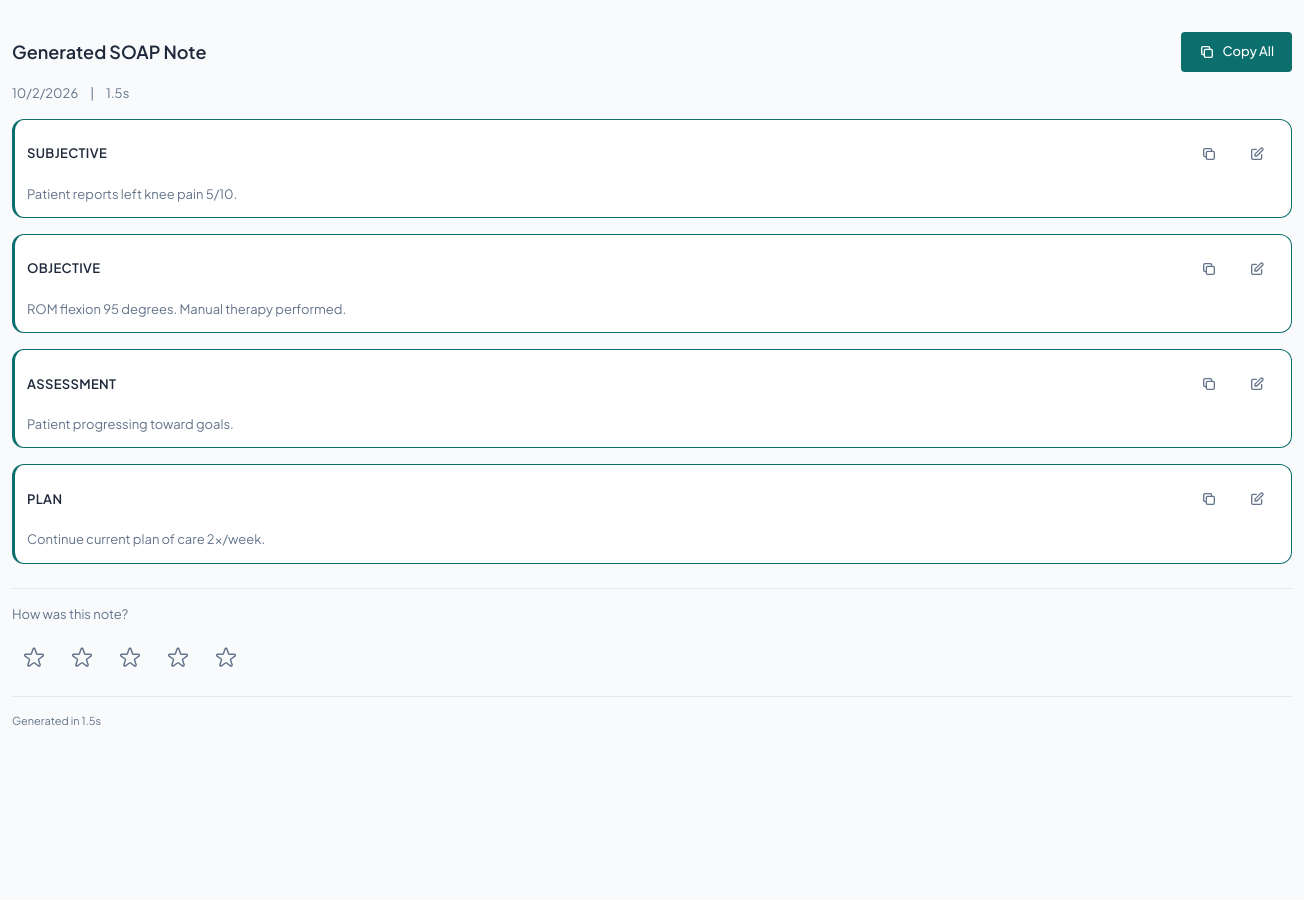
Test: GeneratedNote › save updates section content with edited text
Click the button named "Edit Subjective section".
click(1257, 154)  # box [1235,132,1279,176]
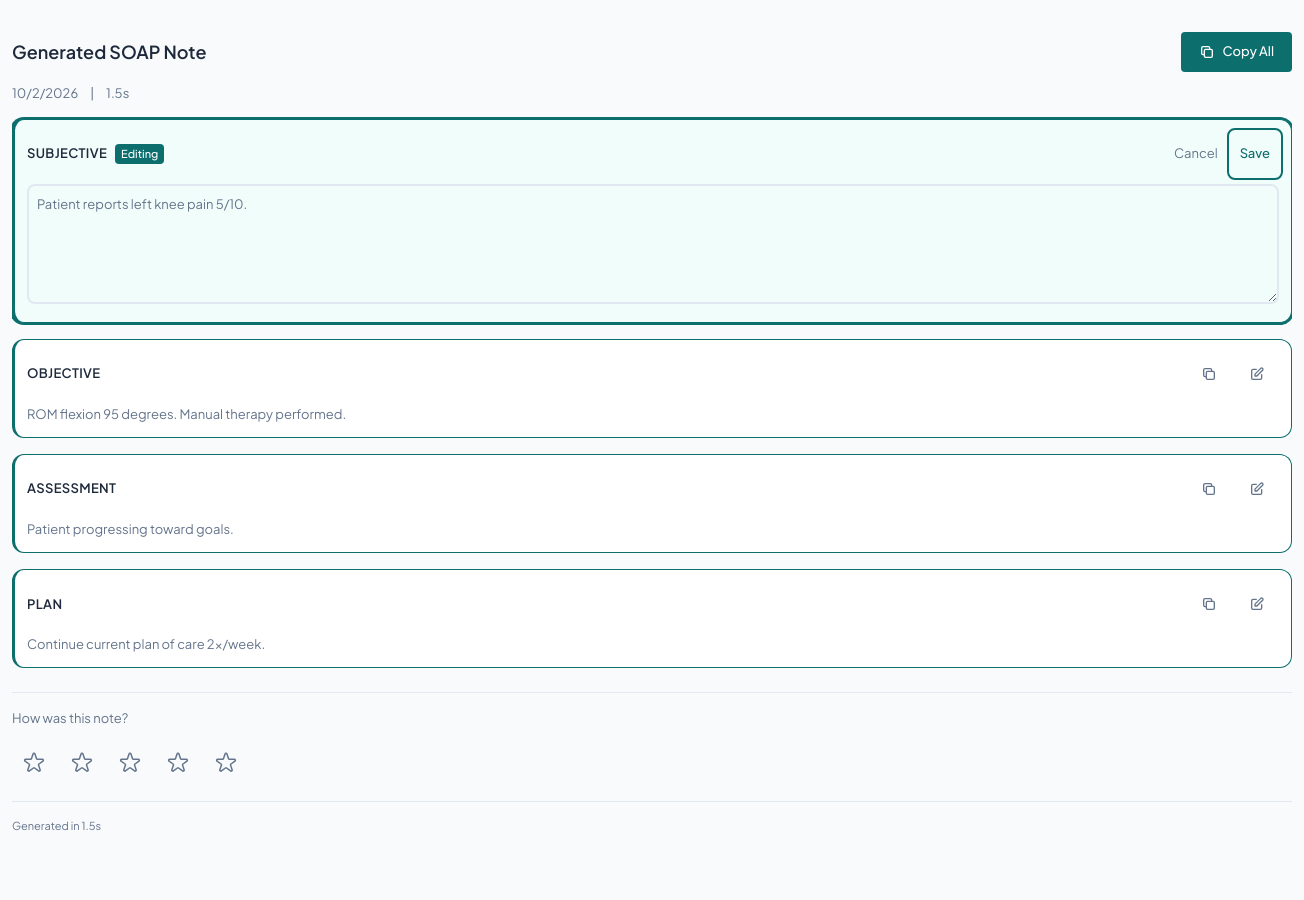
Replace the text in the text box named "Edit Subjective section content" with "Updated subjective content." at point(653, 244), box [27,184,1279,304]
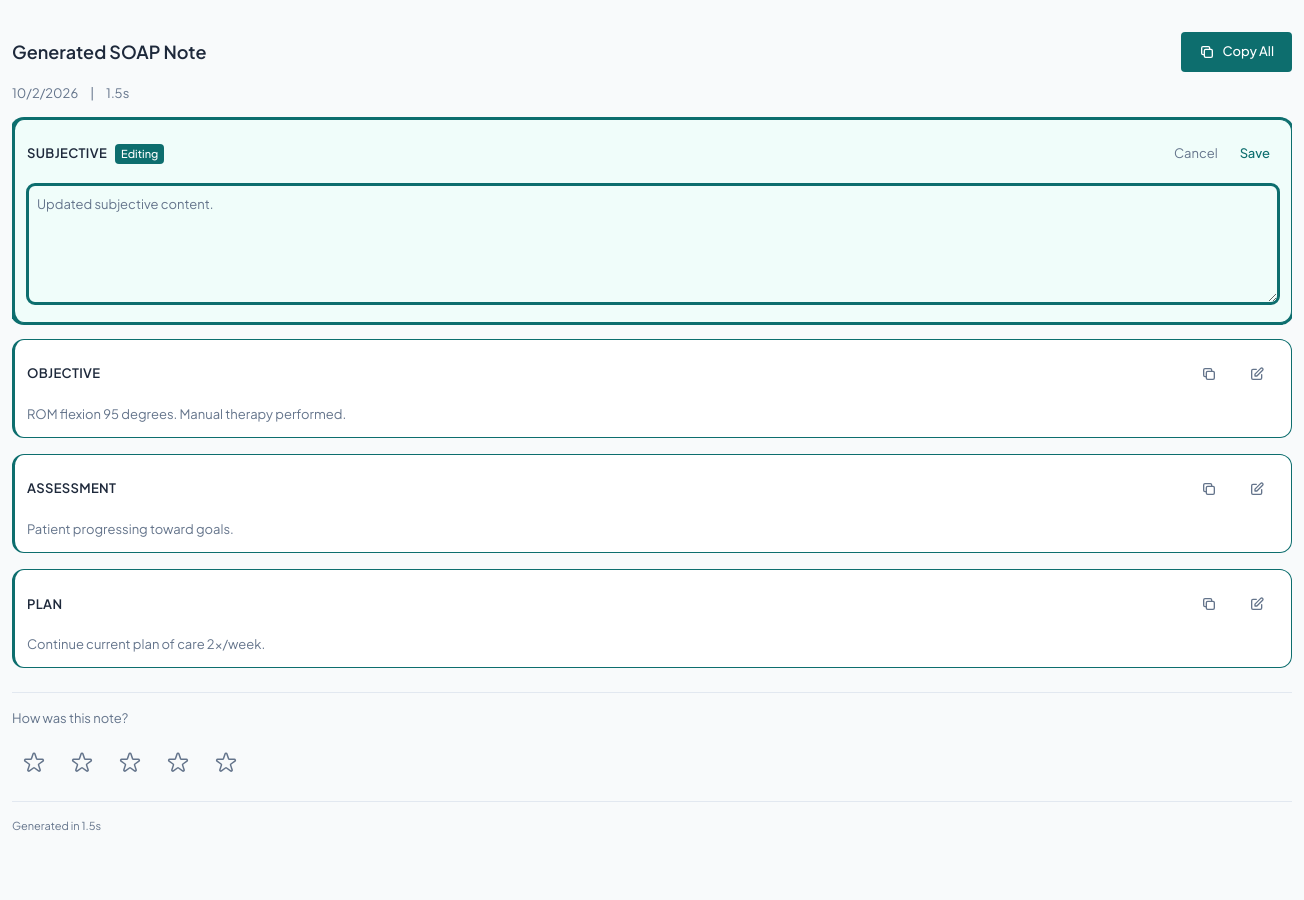
Click the button with aria-label "Save Subjective section".
click(1255, 154)  # box [1231,132,1279,176]
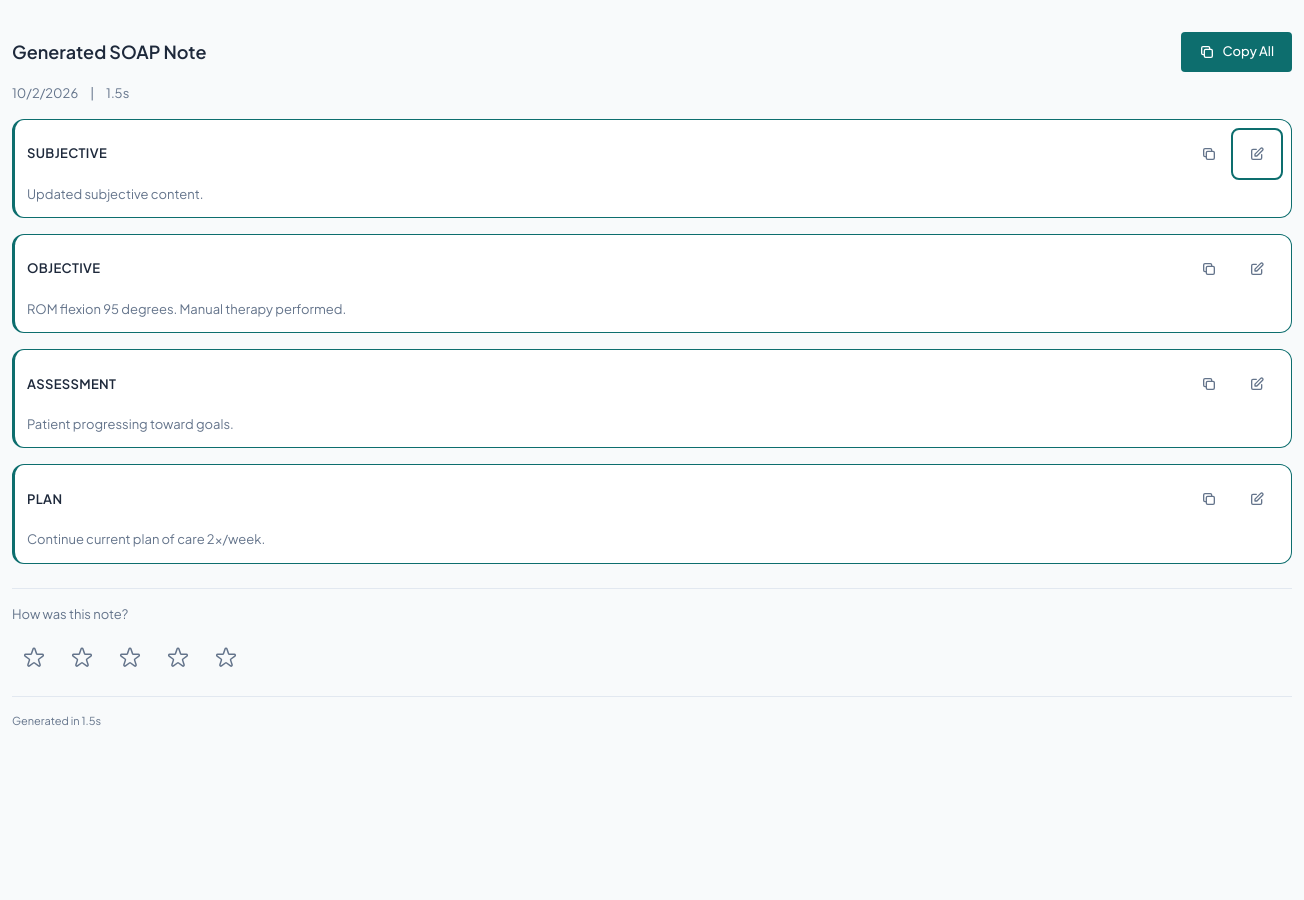
Result: the text "Updated subjective content." is shown at [27,186,204,202]
